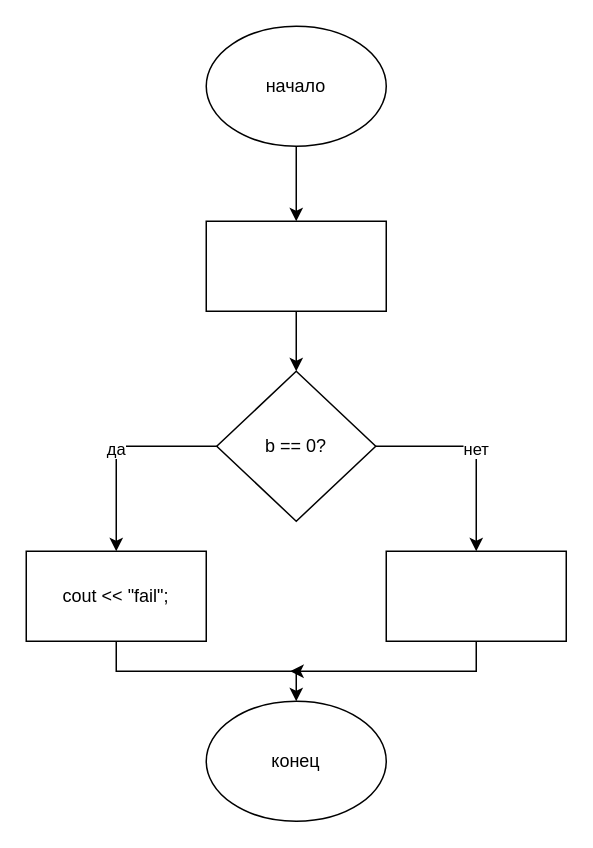
Image size: 593x848. Some labels were removed from this diagram. Each missing label, with the centre of its shape:
"cout << a/b;" belongs at point 475,595.
"float a, b;" belongs at point 295,265.
